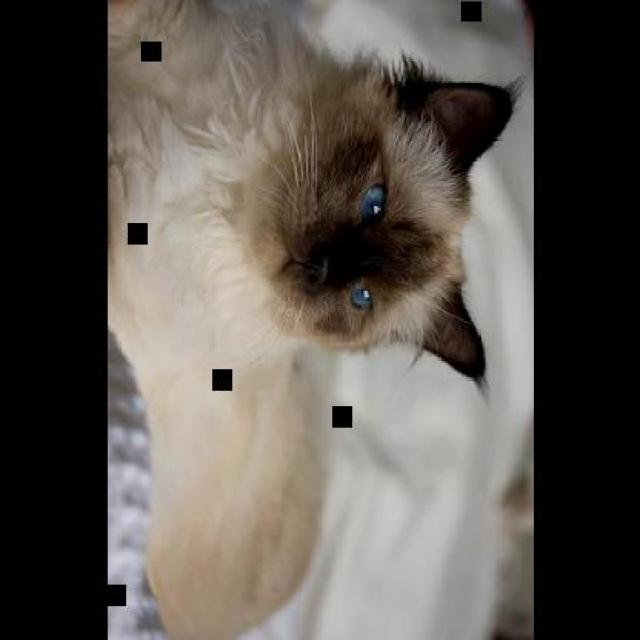unauthorized: (106, 0, 526, 638)
